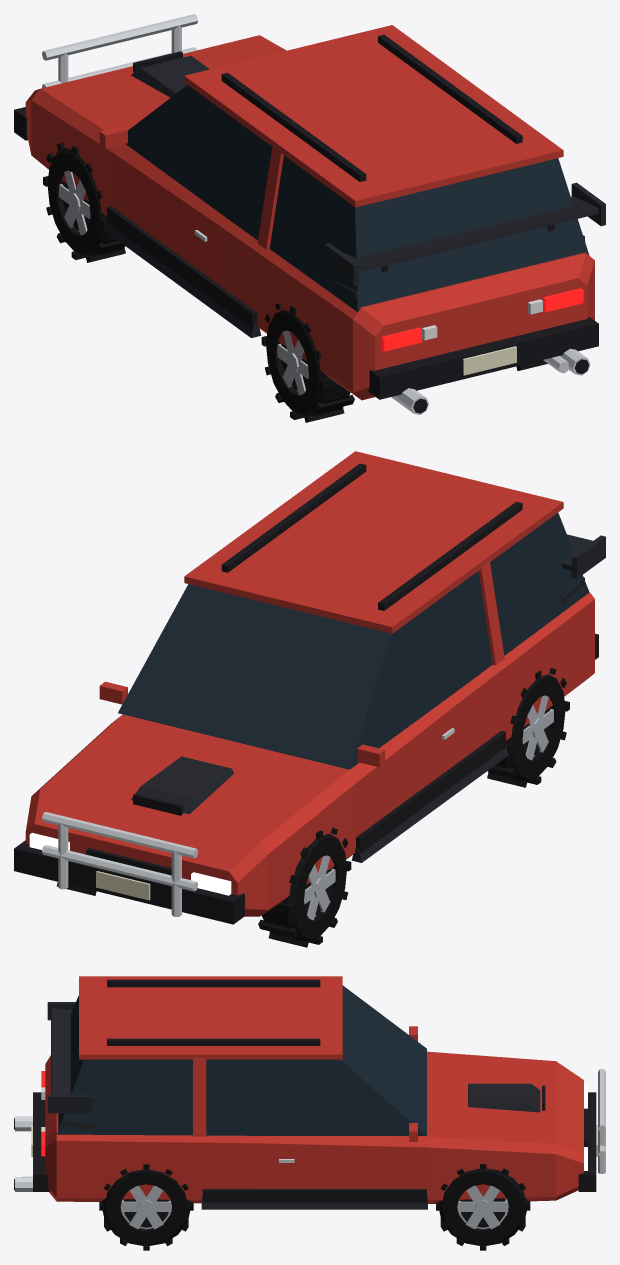
The model's file is suv.glb.
3 views of the same model, one above another, from view 1: azimuth 30°, elevation 25°; view 2: azimuth 150°, elevation 25°; view 3: azimuth 270°, elevation 25° (orthographic). The views are drawn at different scales.
Parts seen in each view (by area): view 1: suv_Top, suv_Body, suv_Wheel_RL, suv_Wheel_FL, suv_Mod_Spoiler2, suv_Mod_Bullbar, suv_Mod_Scoop, suv_Mod_Skirts, suv_Mod_Exhaust; view 2: suv_Top, suv_Body, suv_Wheel_FL, suv_Wheel_RL, suv_Mod_Bullbar, suv_Mod_Scoop, suv_Mod_Skirts, suv_Mod_Spoiler2; view 3: suv_Top, suv_Body, suv_Wheel_FR, suv_Wheel_RR, suv_Mod_Spoiler2, suv_Mod_Scoop, suv_Mod_Skirts, suv_Mod_Bullbar, suv_Mod_Exhaust.
Part boxes in pixels (bbox=[...]): suv_Top: bbox=[14, 25, 598, 399]; suv_Body: bbox=[25, 35, 594, 400]; suv_Wheel_RL: bbox=[261, 303, 354, 422]; suv_Wheel_FL: bbox=[43, 142, 125, 262]; suv_Mod_Spoiler2: bbox=[324, 182, 605, 286]; suv_Mod_Bullbar: bbox=[42, 14, 198, 87]; suv_Mod_Scoop: bbox=[131, 51, 209, 97]; suv_Mod_Skirts: bbox=[104, 220, 261, 337]; suv_Mod_Exhaust: bbox=[391, 348, 590, 414]; suv_Top: bbox=[14, 451, 598, 924]; suv_Body: bbox=[25, 591, 594, 916]; suv_Wheel_FL: bbox=[258, 827, 351, 947]; suv_Wheel_RL: bbox=[487, 668, 569, 787]; suv_Mod_Bullbar: bbox=[42, 812, 198, 916]; suv_Mod_Scoop: bbox=[131, 756, 233, 815]; suv_Mod_Skirts: bbox=[351, 744, 508, 862]; suv_Mod_Spoiler2: bbox=[562, 534, 605, 578]; suv_Top: bbox=[22, 976, 597, 1202]; suv_Body: bbox=[45, 1051, 583, 1203]; suv_Wheel_FR: bbox=[436, 1164, 530, 1250]; suv_Wheel_RR: bbox=[99, 1164, 193, 1250]; suv_Mod_Spoiler2: bbox=[47, 1002, 92, 1113]; suv_Mod_Scoop: bbox=[468, 1083, 545, 1112]; suv_Mod_Skirts: bbox=[201, 1197, 427, 1209]; suv_Mod_Bullbar: bbox=[598, 1069, 605, 1173]; suv_Mod_Exhaust: bbox=[14, 1116, 32, 1191].
Bounding box in the file's own units: 2.22 × 1.9 × 5.28.
